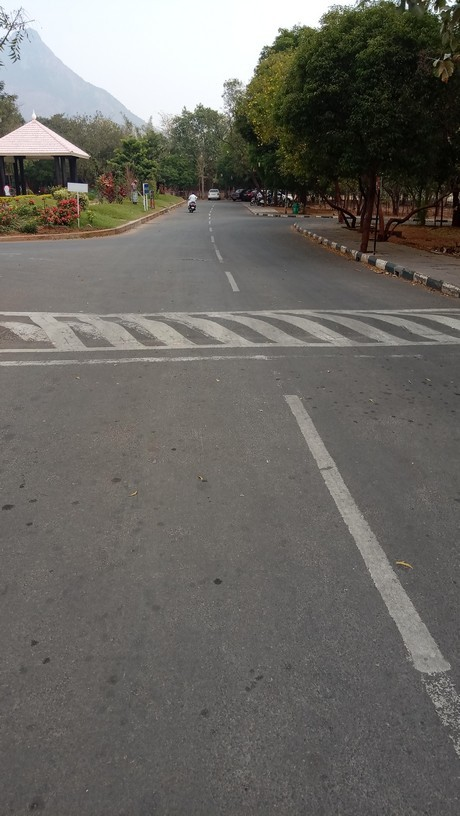bump: (1, 309, 460, 351)
